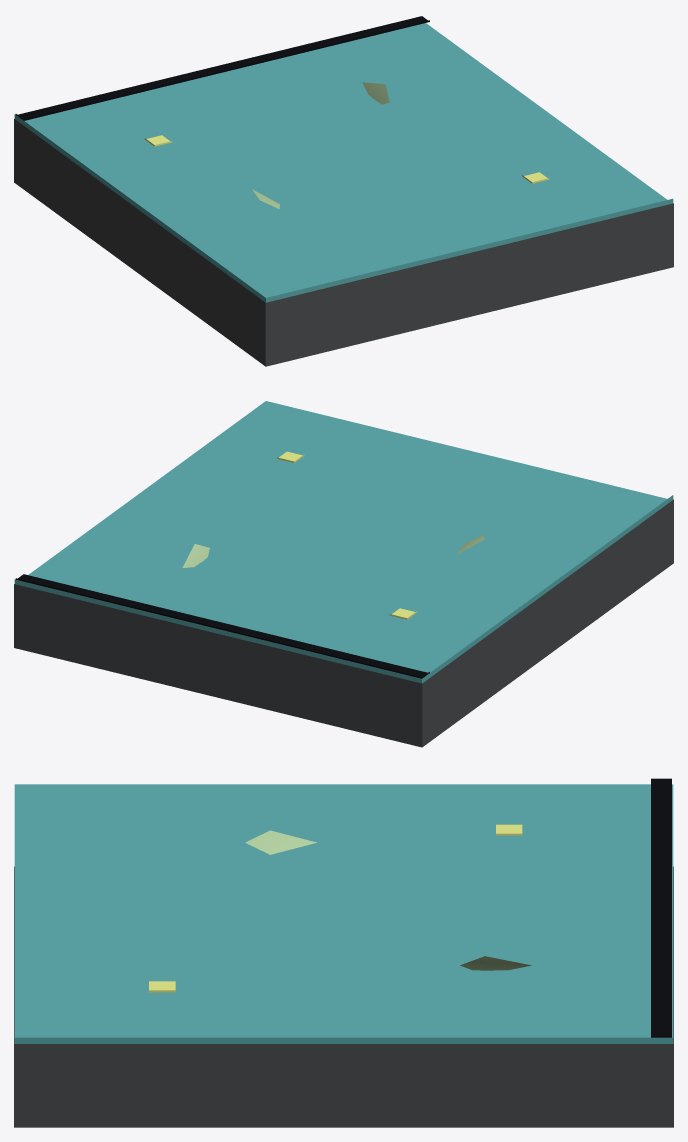
The model's file is tt_climb_mat_300_187x20.glb.
The picture shows the model from 3 angles, top to bottom: view 1: azimuth 30°, elevation 25°; view 2: azimuth 150°, elevation 25°; view 3: azimuth 270°, elevation 25°; orthographic projection. The views are drawn at different scales.
Visible parts, largest first — view 1: Mat_Cover, Mat_Core, Velcro_Seam_Flap, Leaf_Print; view 2: Mat_Cover, Mat_Core, Velcro_Seam_Flap, Leaf_Print; view 3: Mat_Cover, Mat_Core, Velcro_Seam_Flap, Leaf_Print, Ball_Dots.
Part boxes in pixels (<box>): Mat_Cover: <box>14,23,673,302</box>; Mat_Core: <box>14,119,673,366</box>; Velcro_Seam_Flap: <box>15,16,429,120</box>; Leaf_Print: <box>252,82,389,208</box>; Mat_Cover: <box>14,401,673,683</box>; Mat_Core: <box>14,499,673,747</box>; Velcro_Seam_Flap: <box>15,574,429,678</box>; Leaf_Print: <box>182,535,484,567</box>; Mat_Cover: <box>14,784,673,1043</box>; Mat_Core: <box>14,866,673,1127</box>; Velcro_Seam_Flap: <box>651,778,671,1037</box>; Leaf_Print: <box>245,830,531,970</box>; Ball_Dots: <box>149,824,522,992</box>.
Size of what is drawn, in the model's own units: 1.87 by 0.3412 by 2.
Materials: 5 (1 with a texture image).
